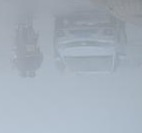person: (25, 26, 45, 78), (12, 21, 28, 80)
